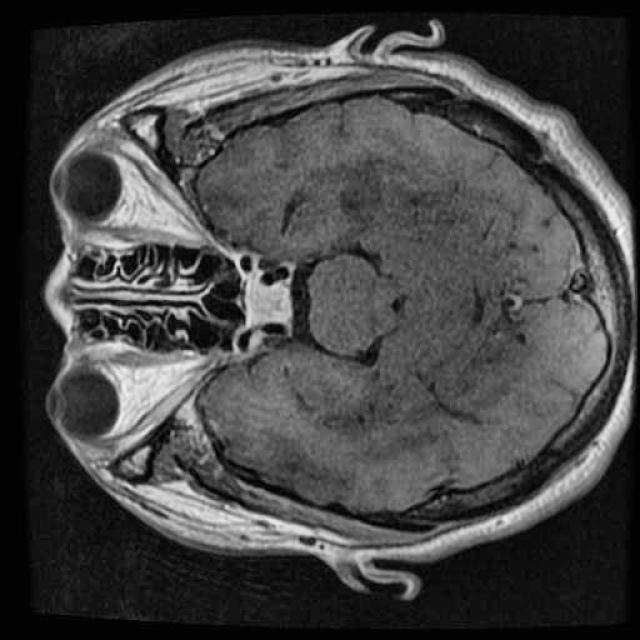Tumor: (235, 266, 304, 336)
